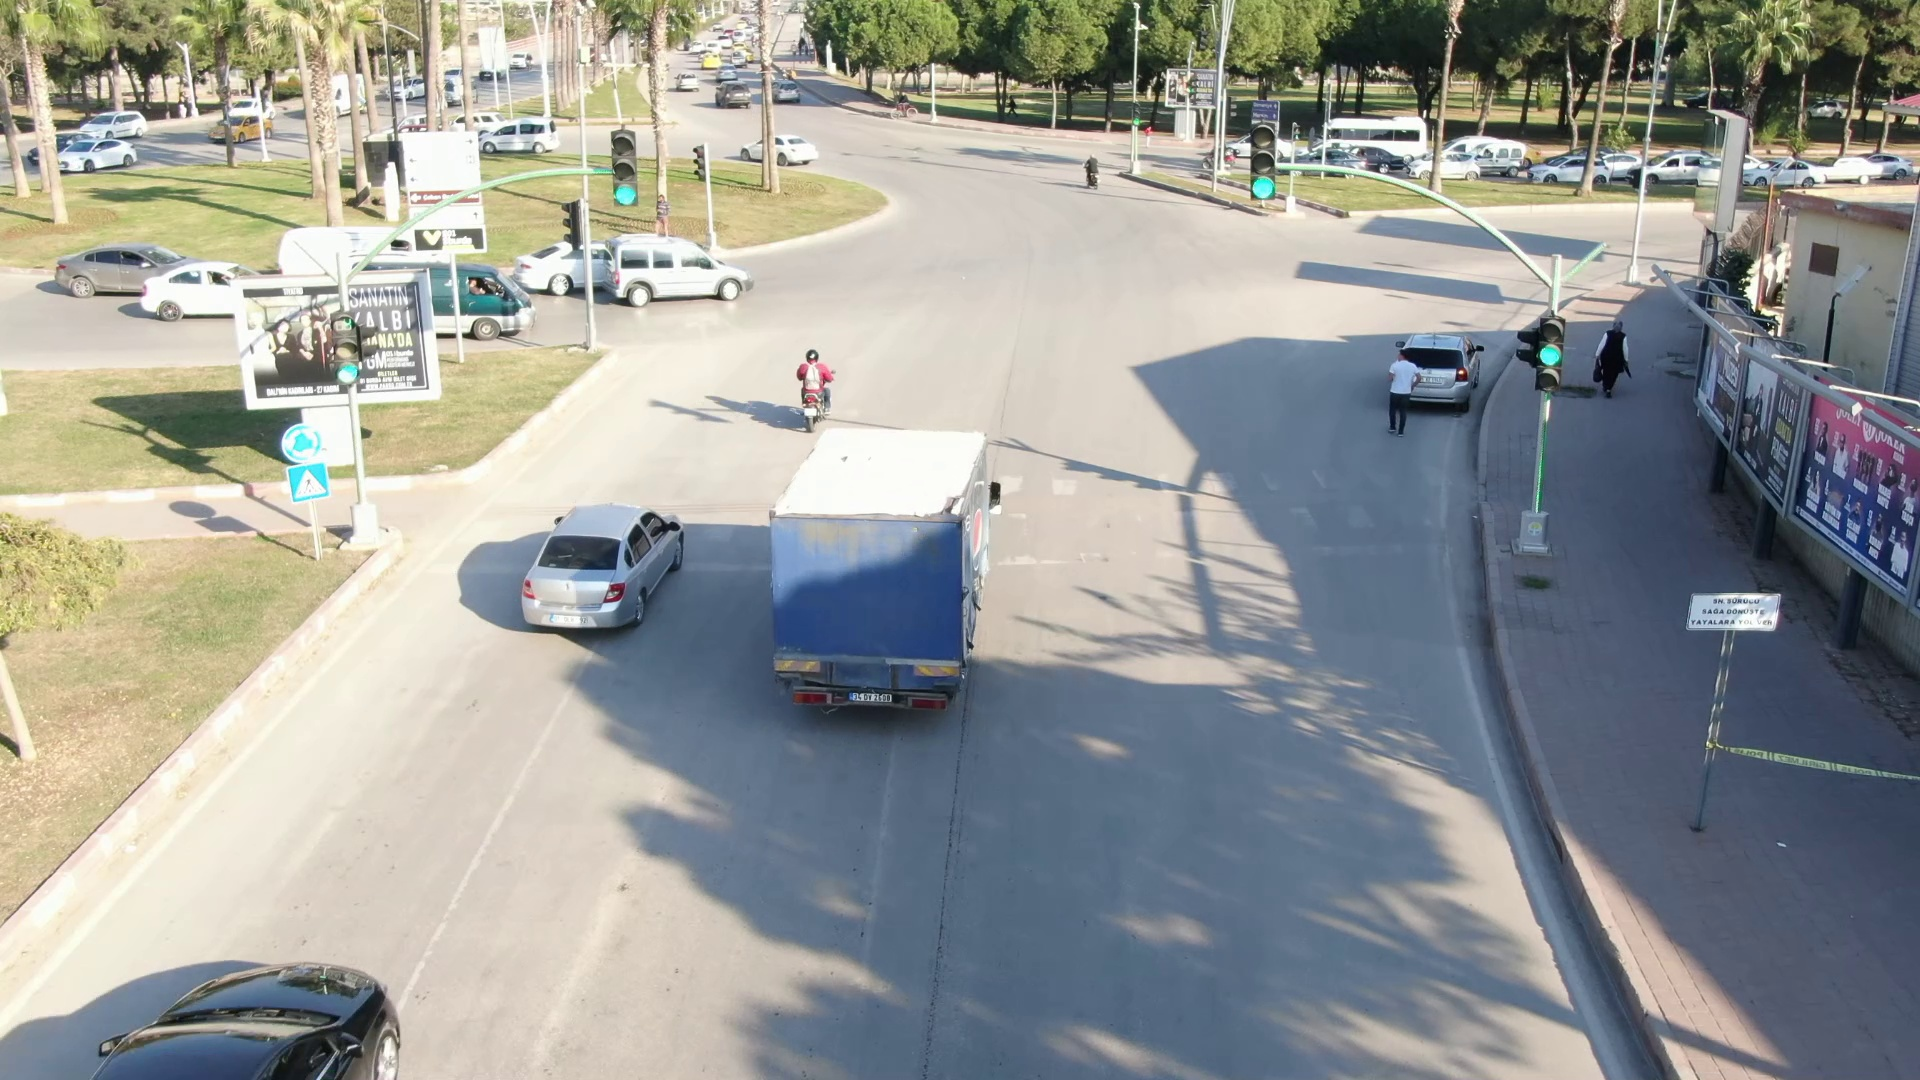car: (514, 486, 697, 641), (594, 230, 766, 311), (45, 228, 217, 304), (49, 132, 152, 178), (733, 124, 824, 173), (476, 112, 566, 159), (200, 108, 289, 145), (711, 77, 756, 112)
person: (1371, 331, 1424, 439), (1584, 311, 1638, 402), (794, 341, 840, 396)
